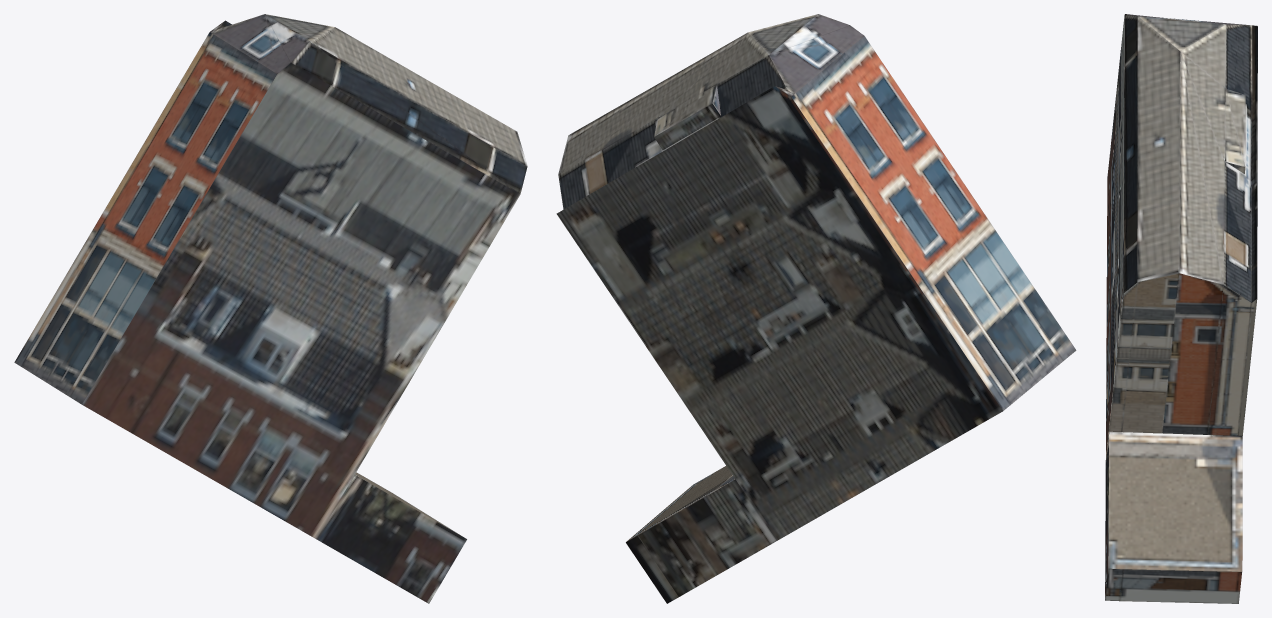
The picture shows the model from 3 angles, left to right: view 1: azimuth 30°, elevation 25°; view 2: azimuth 150°, elevation 25°; view 3: azimuth 270°, elevation 25°; orthographic projection. The views are drawn at different scales.
Parts seen in each view (by area): view 1: BAG_0599100000671712 (×5); view 2: BAG_0599100000671712 (×6); view 3: BAG_0599100000671712 (×6).
Boxes of the visible parts, x1,y1,x2,y2 form: BAG_0599100000671712 (×5): (14,14,527,603); BAG_0599100000671712 (×6): (556,14,1076,603); BAG_0599100000671712 (×6): (1105,14,1257,603).
Size of the model in its own units: 18.14 by 21.2 by 5.41.
Materials: 6 (6 with a texture image).
